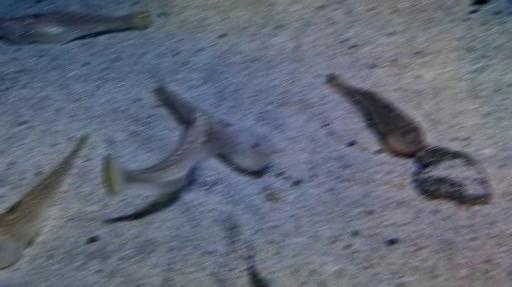Fish: (158, 78, 275, 172), (0, 133, 87, 251), (103, 110, 212, 196), (329, 74, 427, 157), (0, 12, 149, 45), (248, 257, 261, 286)
